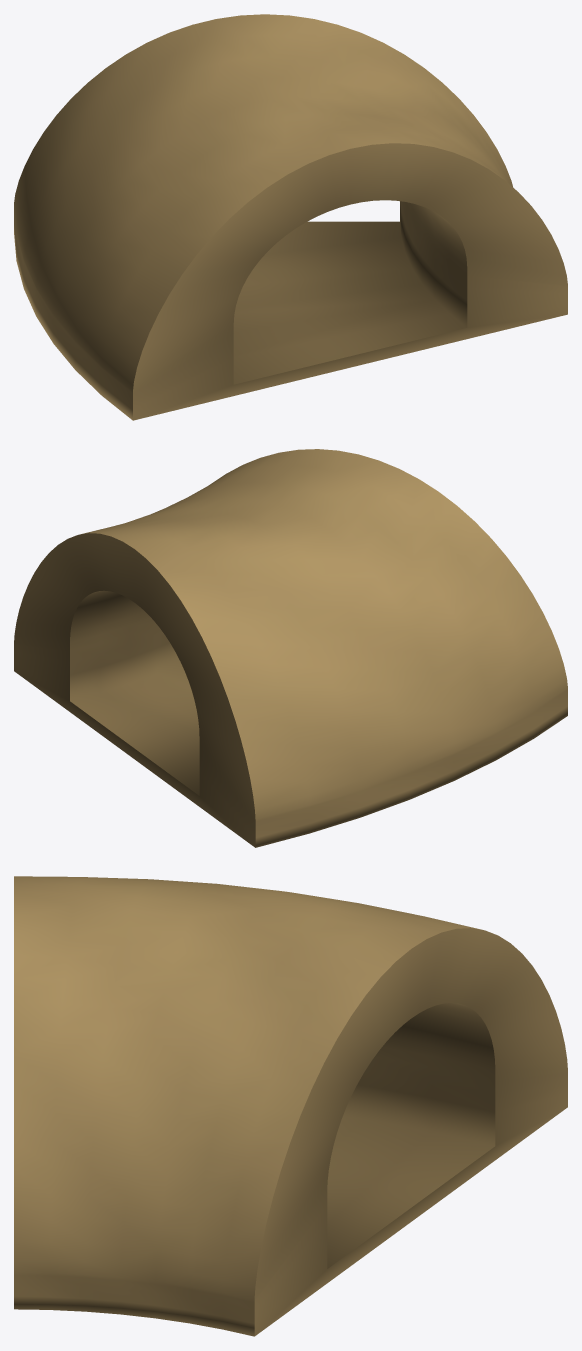
The model's file is curve_right_30_terrain_lod1.glb.
The picture shows the model from 3 angles, top to bottom: view 1: azimuth 30°, elevation 25°; view 2: azimuth 150°, elevation 25°; view 3: azimuth 270°, elevation 25°; orthographic projection. The views are drawn at different scales.
Visible parts, largest first — view 1: TerrainRoof.009; view 2: TerrainRoof.009; view 3: TerrainRoof.009.
Boxes of the visible parts, box(x1,y1,x2,y2) form: TerrainRoof.009: box(14, 14, 567, 420); TerrainRoof.009: box(14, 449, 567, 847); TerrainRoof.009: box(14, 876, 567, 1336).
Bounding box in the file's own units: 31.32 × 13.65 × 25.1.
